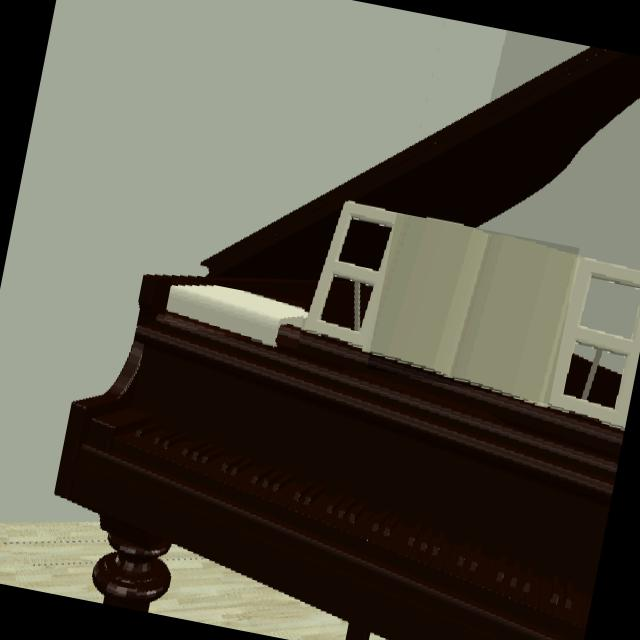book: (371, 218, 578, 403), (168, 287, 304, 344)
